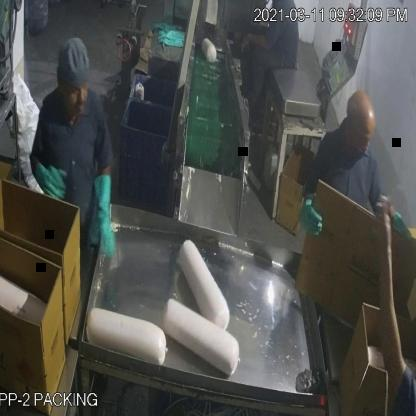glove: (82, 165, 121, 264), (299, 191, 330, 250)
no_glove: (375, 190, 413, 392), (237, 26, 273, 62)
